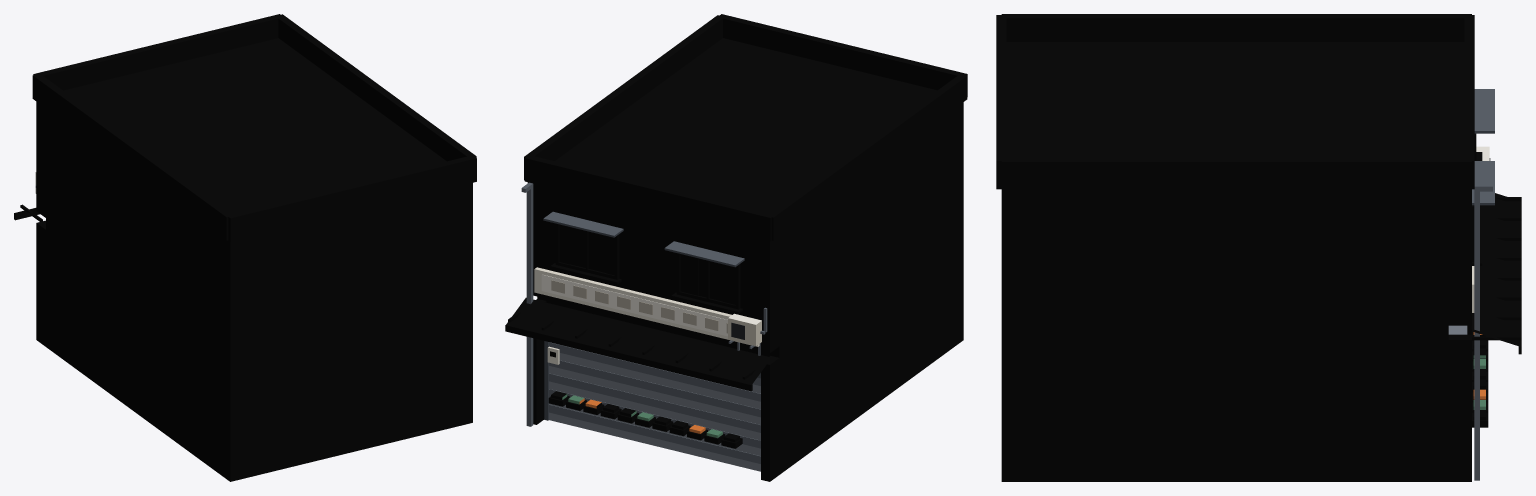
Rendered from Shop_C.fbx.
3 renders of one model, left to right at view 1: azimuth 30°, elevation 25°; view 2: azimuth 150°, elevation 25°; view 3: azimuth 270°, elevation 25°, orthographic. The views are drawn at different scales.
Visible parts, largest first — view 1: RoofTop.003, BodyLow.002, BodyUp.002, Pilasters.002; view 2: RoofTop.003, BodyUp.002, BodyLow.002, ShutterSlats, Geya.001, Pilasters.002, WinFrame.007, SignBand.002, SignFace.002, Pipes.007, Hoods.006, GoodsCrates.002 (+7 smaller); view 3: RoofTop.003, BodyLow.002, BodyUp.002, Geya.001, Pilasters.002, Pipes.007, Hoods.006, GoodsProduce.002, GoodsCrates.002.
Boxes of the visible parts, bbox=[...] form: RoofTop.003: bbox=[32, 14, 476, 241]; BodyLow.002: bbox=[46, 218, 472, 481]; BodyUp.002: bbox=[36, 102, 472, 352]; Pilasters.002: bbox=[36, 220, 45, 346]; RoofTop.003: bbox=[524, 14, 967, 241]; BodyUp.002: bbox=[527, 102, 963, 353]; BodyLow.002: bbox=[537, 212, 963, 474]; ShutterSlats: bbox=[548, 342, 760, 471]; Geya.001: bbox=[505, 297, 771, 391]; Pilasters.002: bbox=[533, 299, 779, 481]; WinFrame.007: bbox=[550, 223, 742, 313]; SignBand.002: bbox=[534, 267, 759, 346]; SignFace.002: bbox=[541, 274, 727, 336]; Pipes.007: bbox=[521, 182, 767, 426]; Hoods.006: bbox=[543, 211, 744, 267]; GoodsCrates.002: bbox=[548, 395, 742, 448]; RoofTop.003: bbox=[996, 14, 1474, 190]; BodyLow.002: bbox=[1001, 325, 1448, 481]; BodyUp.002: bbox=[1001, 190, 1471, 325]; Geya.001: bbox=[1472, 193, 1521, 354]; Pilasters.002: bbox=[1448, 325, 1471, 481]; Pipes.007: bbox=[1474, 184, 1492, 480]; Hoods.006: bbox=[1472, 89, 1494, 205]; GoodsProduce.002: bbox=[1473, 332, 1485, 420]; GoodsCrates.002: bbox=[1471, 326, 1488, 427].
Bounding box in the file's own units: 6.7 × 6.8 × 10.05.
